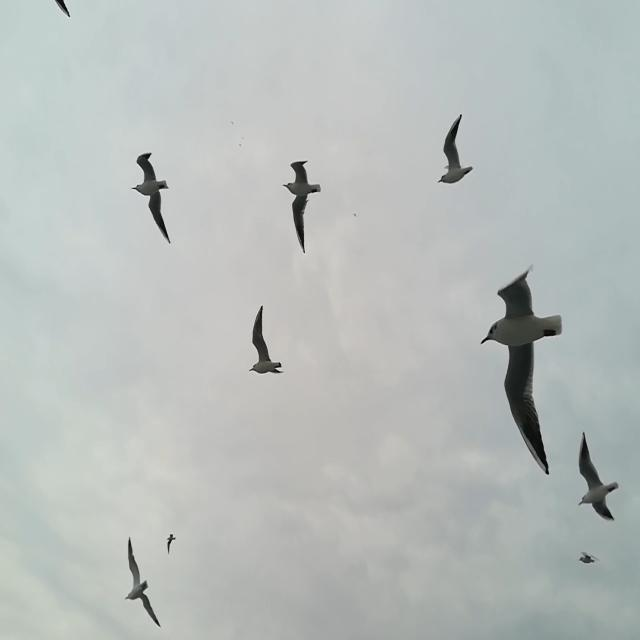bird: (480, 262, 563, 480), (130, 149, 172, 244), (576, 433, 620, 522), (283, 159, 320, 254), (125, 535, 162, 628), (437, 116, 474, 186), (249, 305, 285, 375), (53, 0, 73, 18), (577, 550, 599, 566), (165, 532, 178, 554)
